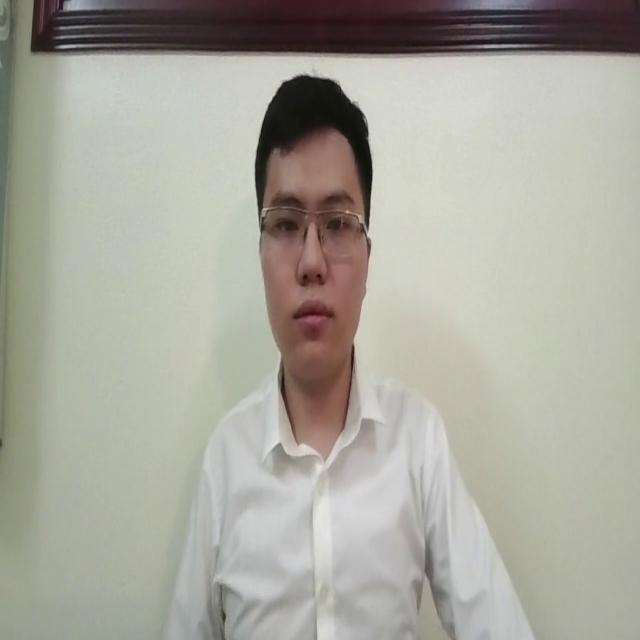student: (167, 86, 533, 640)
